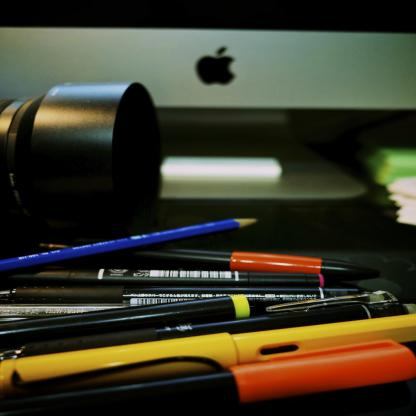Pen: (0, 240, 415, 415)
